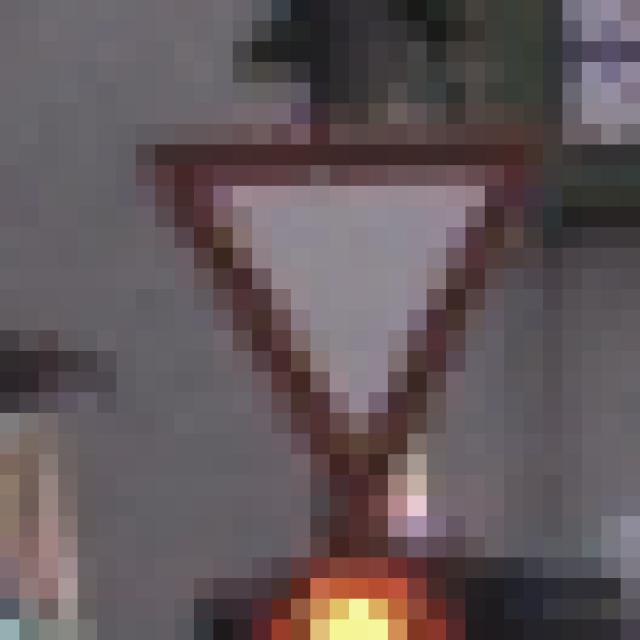Give Way: (117, 104, 544, 538)
